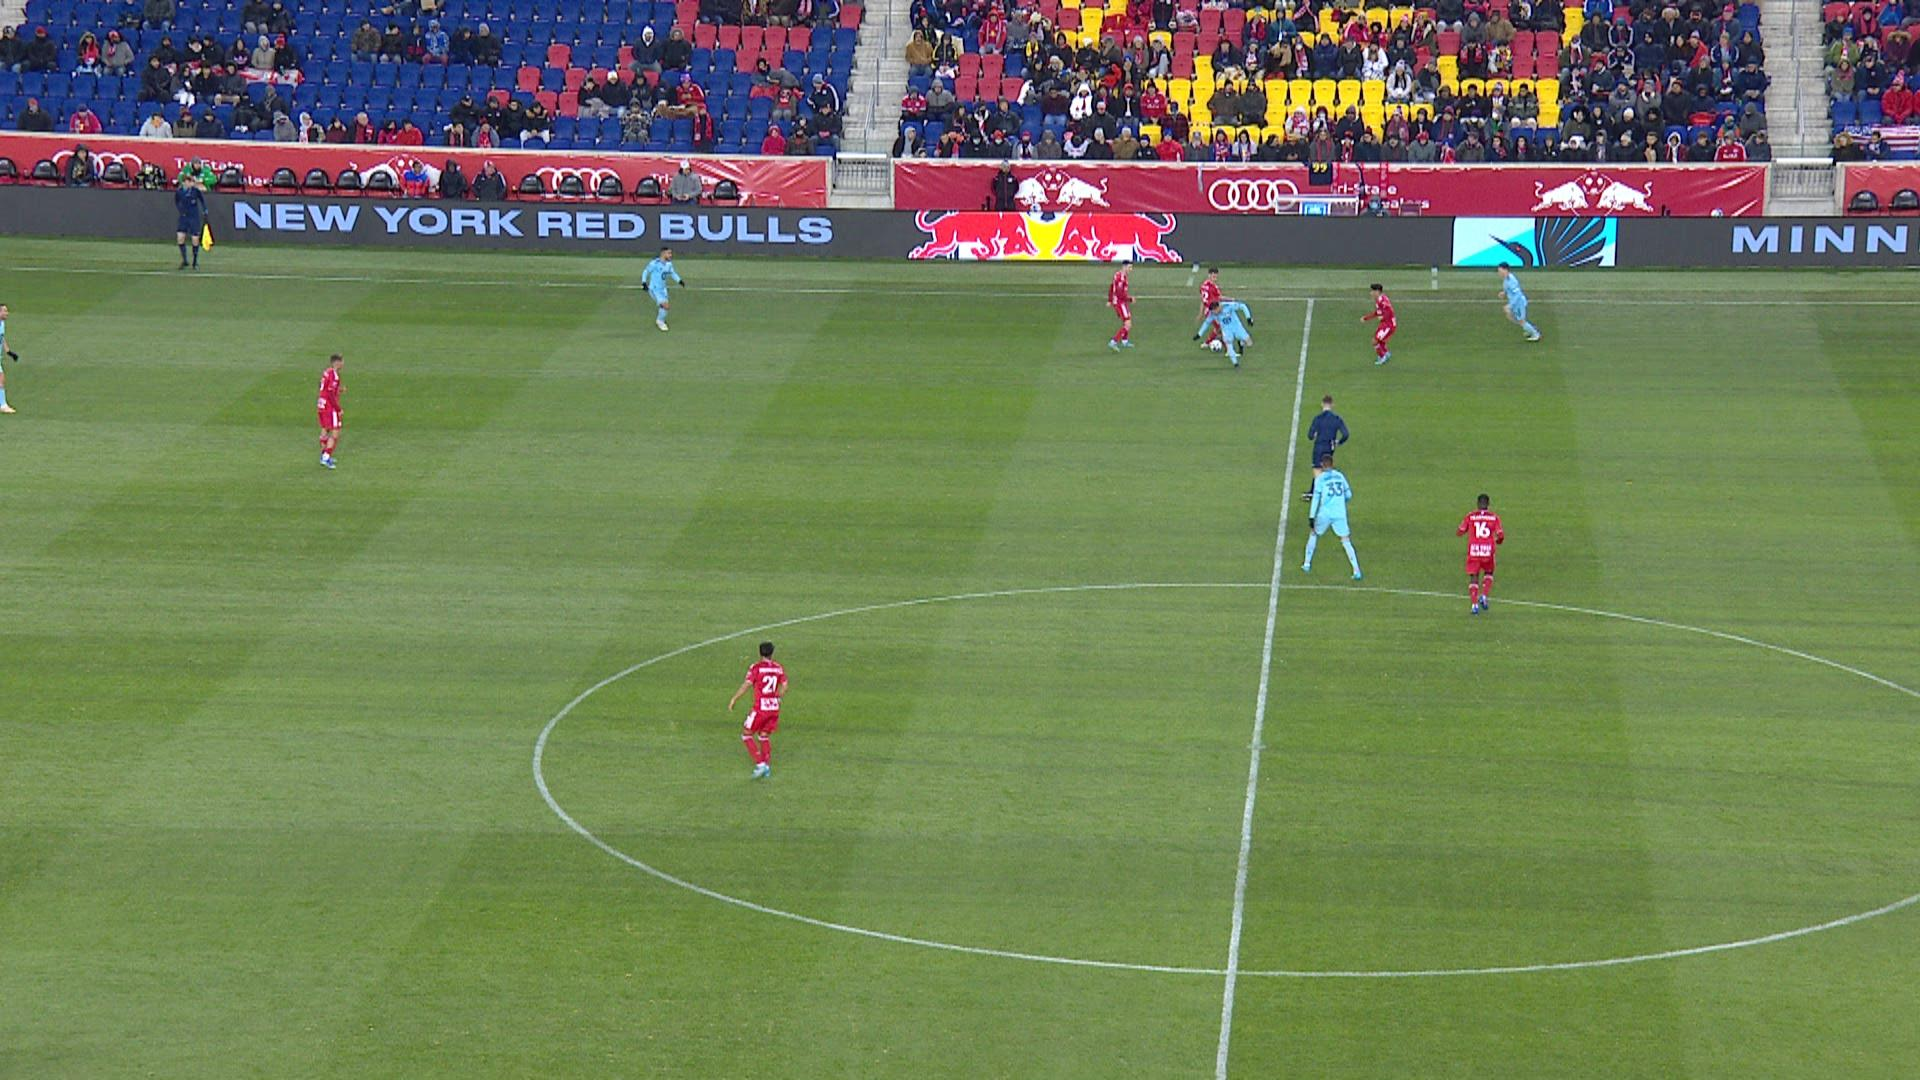football: (1210, 339, 1222, 352)
